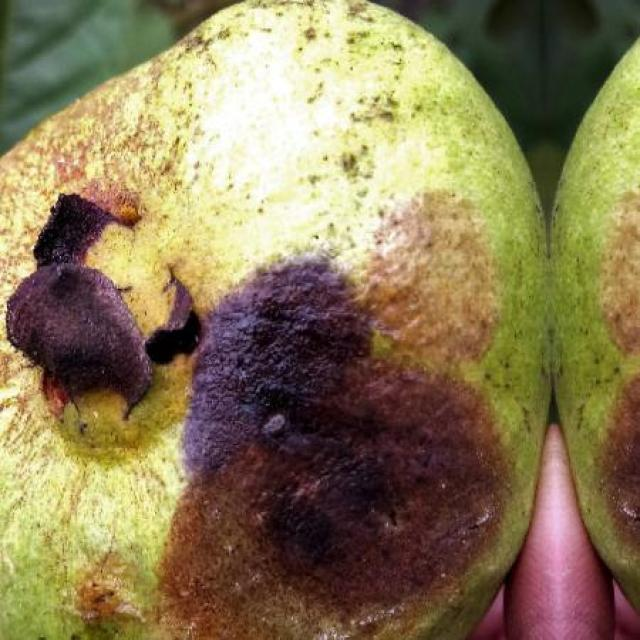Styler and Root: (160, 194, 509, 640), (602, 371, 640, 546), (600, 188, 639, 354)
